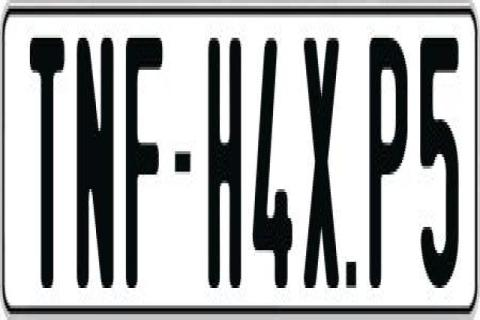0: (420, 29, 464, 282), (252, 32, 292, 296)
F: (123, 29, 166, 288)
H: (206, 32, 240, 291)
N: (77, 32, 115, 296)
P: (369, 35, 411, 288)
T: (30, 35, 70, 299)
X: (303, 32, 340, 291)
